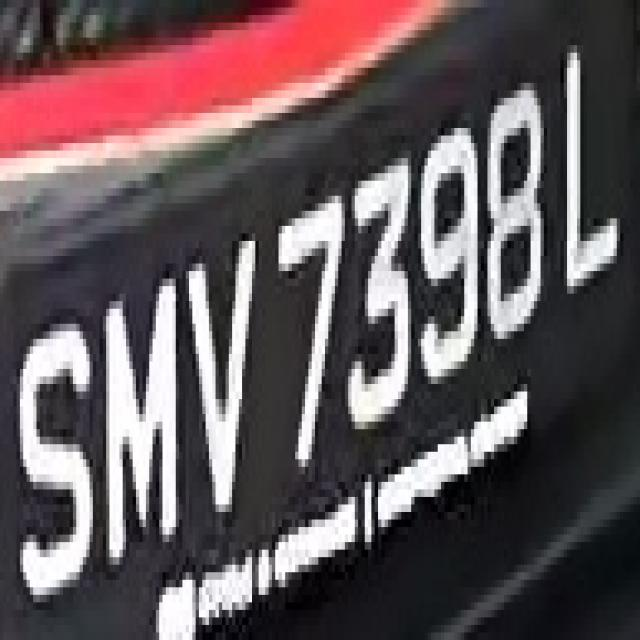3: (341, 143, 418, 429)
7: (272, 188, 345, 482)
8: (474, 83, 551, 354)
9: (411, 121, 484, 414)
L: (557, 15, 620, 301)
M: (106, 264, 182, 580)
S: (7, 301, 102, 610)
V: (179, 226, 262, 534)
